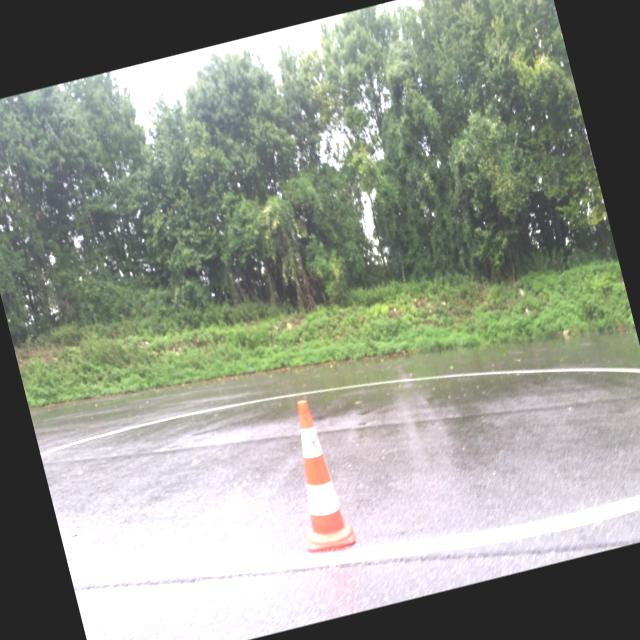large_orange_cone: (266, 396, 356, 556)
